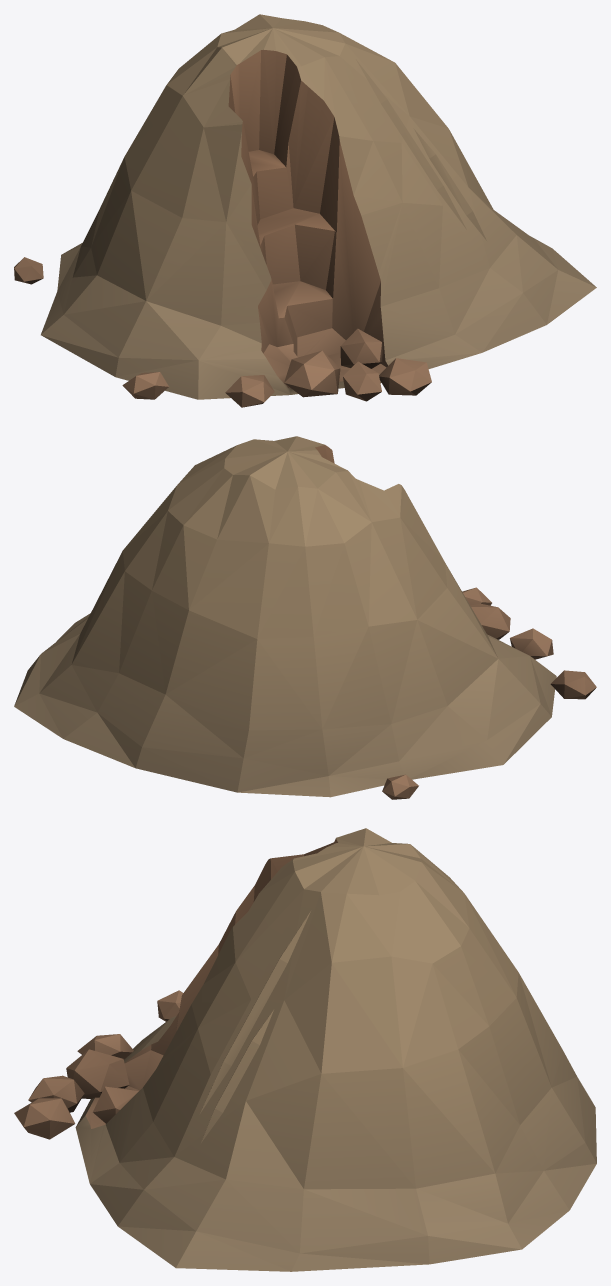
Rendered from spoil.glb.
The picture shows the model from 3 angles, top to bottom: view 1: azimuth 30°, elevation 25°; view 2: azimuth 150°, elevation 25°; view 3: azimuth 270°, elevation 25°; orthographic projection. The views are drawn at different scales.
Parts seen in each view (by area): view 1: spoil; view 2: spoil; view 3: spoil.
Boxes of the visible parts, x1=… form: spoil: x1=14, y1=14, x2=596, y2=407; spoil: x1=14, y1=436, x2=596, y2=799; spoil: x1=14, y1=828, x2=596, y2=1271.
Bounding box in the file's own units: 3.37 × 1.75 × 3.19.
